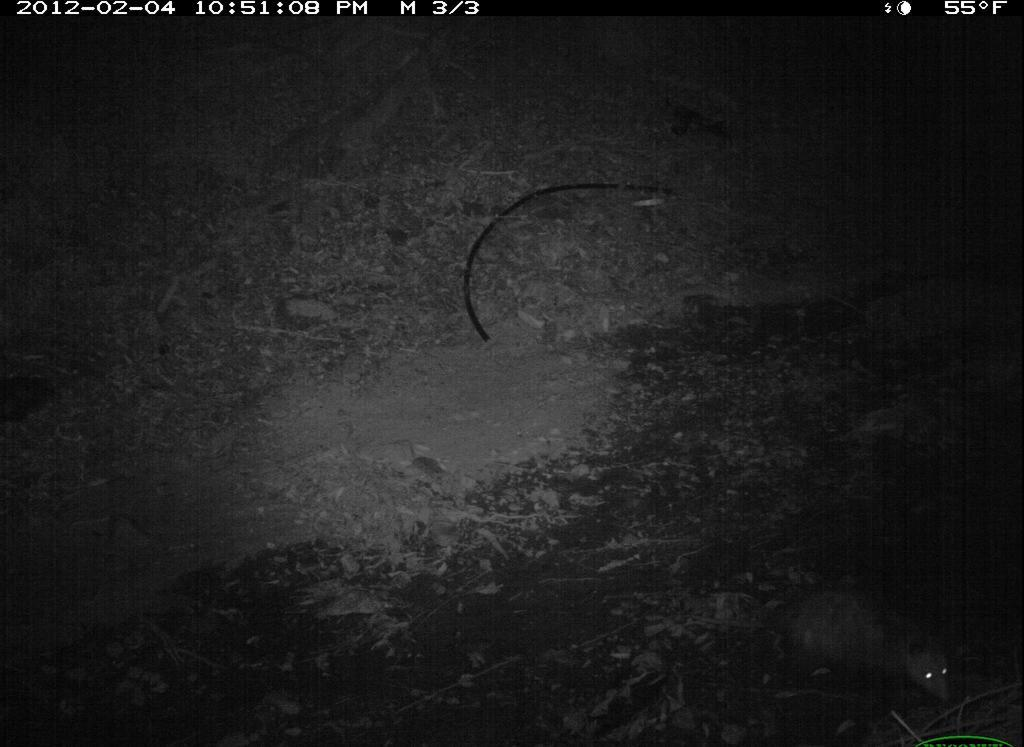opossum: (753, 568, 962, 724)
